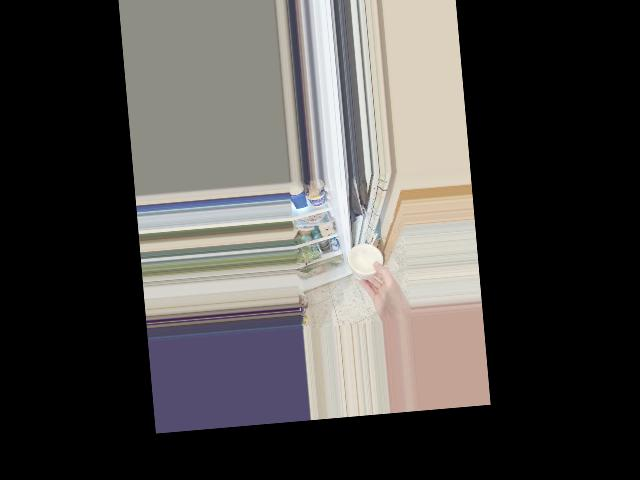cotage: (348, 243, 381, 279)
